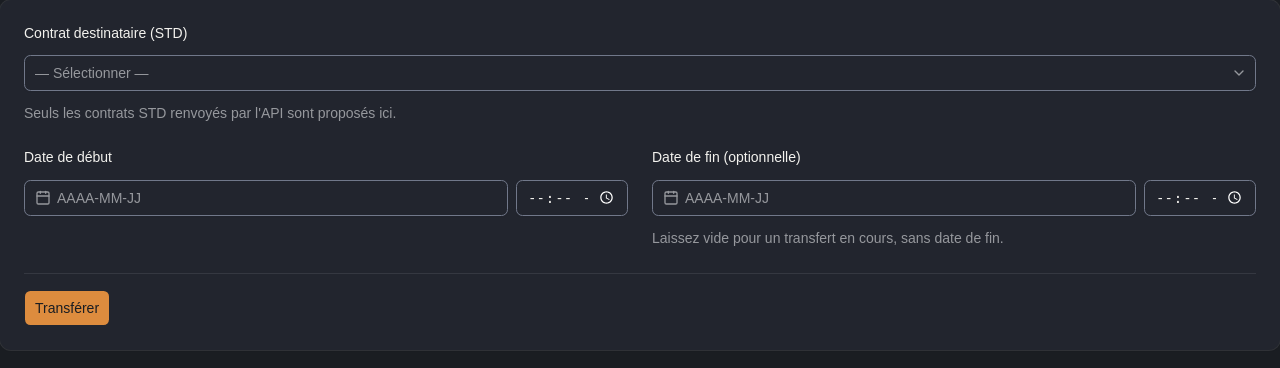
Test: TransferForm (KAN-169 FR14-FR17) › offers only the API-provided STD contracts as transfer targets (FR14, CB22)
The width and height of the screenshot is (1280, 368).
Click the dropdown with test id "transfer-field-target" at (92, 73), box top-left (24, 55), bottom-right (1256, 91)
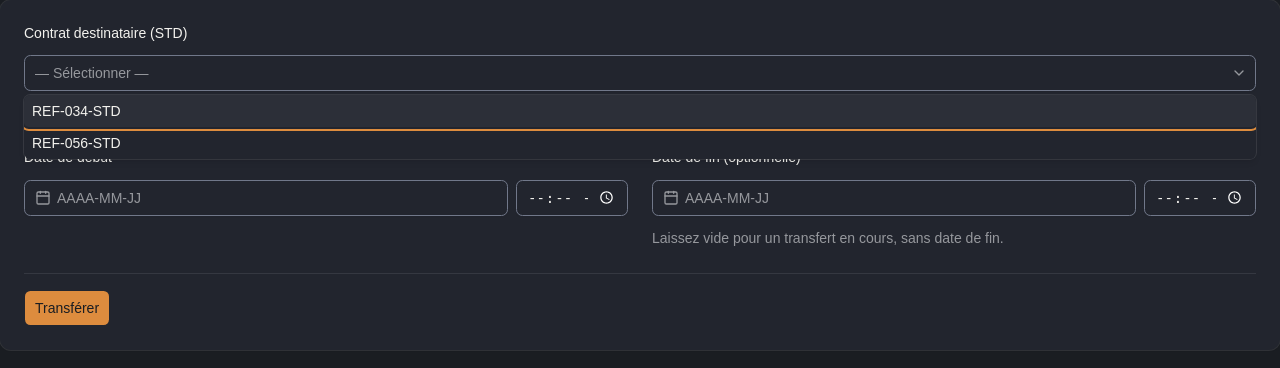
Now the option with test id "transfer-target-option-34" reads "REF-034-STD", box top-left (24, 95), bottom-right (1256, 127)
Now the option with test id "transfer-target-option-56" reads "REF-056-STD", box top-left (32, 135), bottom-right (121, 151)
